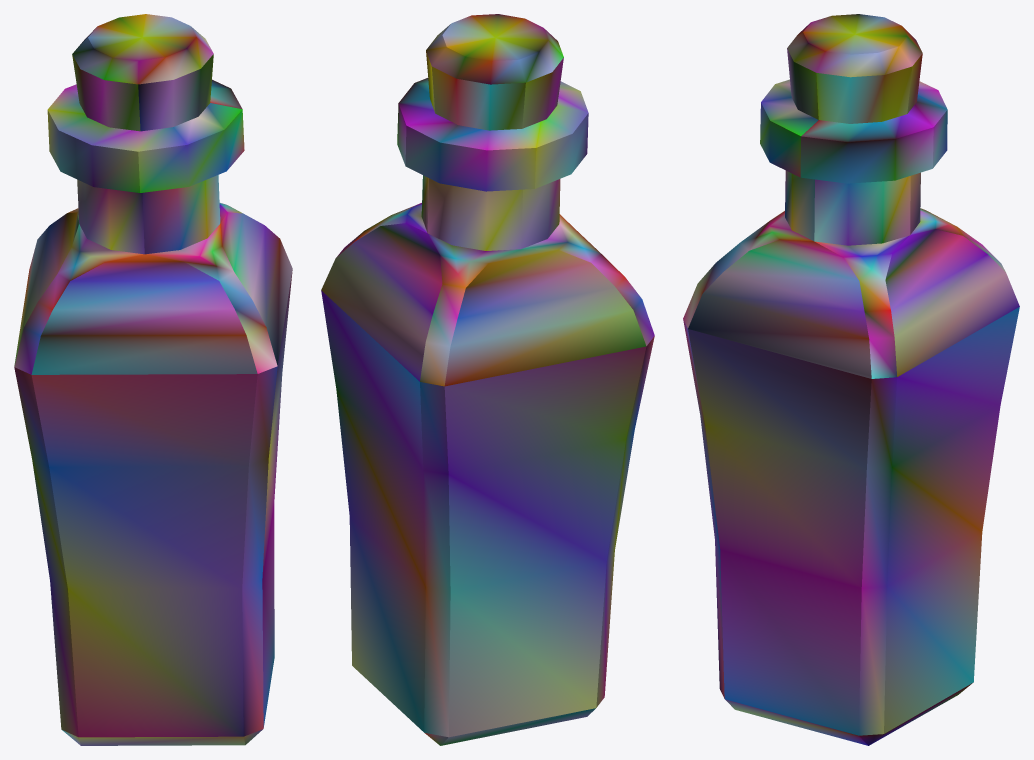
The model's file is Pot04.fbx.
The picture shows the model from 3 angles, left to right: view 1: azimuth 30°, elevation 25°; view 2: azimuth 150°, elevation 25°; view 3: azimuth 270°, elevation 25°; orthographic projection. The views are drawn at different scales.
Visible parts, largest first — view 1: Pot.001; view 2: Pot.001; view 3: Pot.001.
Boxes of the visible parts, x1,y1,x2,y2 form: Pot.001: (14,14,292,745); Pot.001: (321,14,654,745); Pot.001: (683,14,1019,745).
Bounding box in the file's own units: 18.43 × 40.01 × 18.43.
